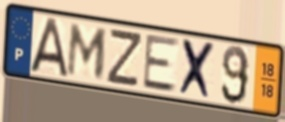9: (220, 44, 250, 108)
A: (28, 16, 70, 79)
E: (141, 34, 181, 95)
M: (64, 22, 110, 81)
X: (177, 36, 218, 103)
Z: (104, 29, 145, 90)
